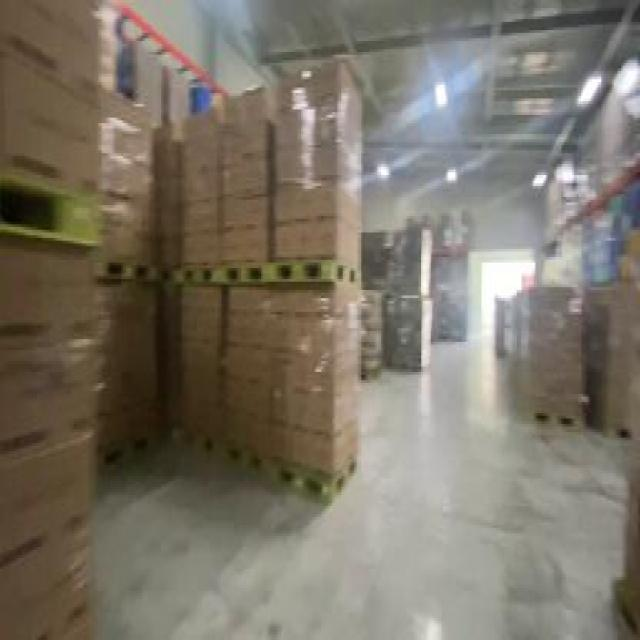box: (154, 71, 368, 506), (2, 3, 98, 637), (95, 63, 158, 470), (486, 276, 588, 446), (355, 216, 434, 372), (583, 260, 639, 451), (420, 208, 474, 350)
